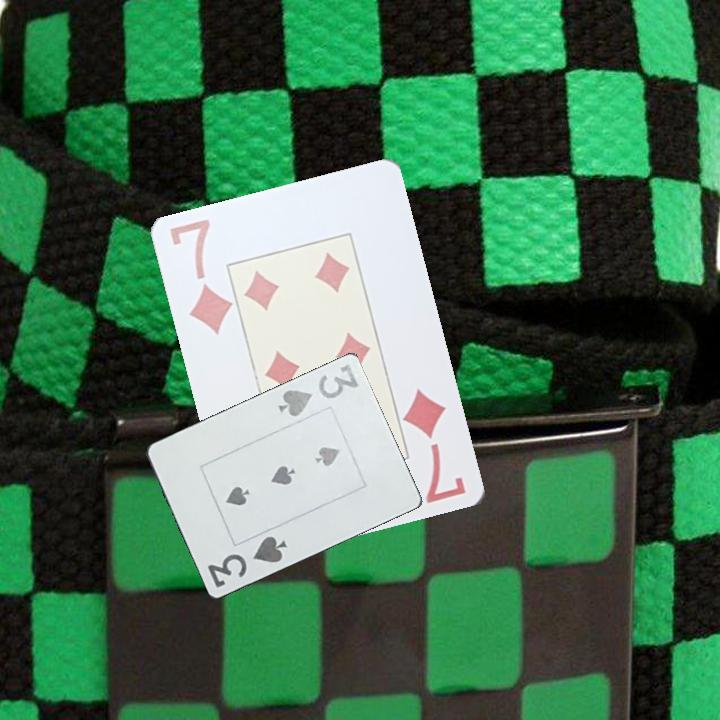3s: (275, 360, 362, 420), (204, 532, 291, 590)
7d: (166, 215, 235, 339), (401, 385, 469, 507)
